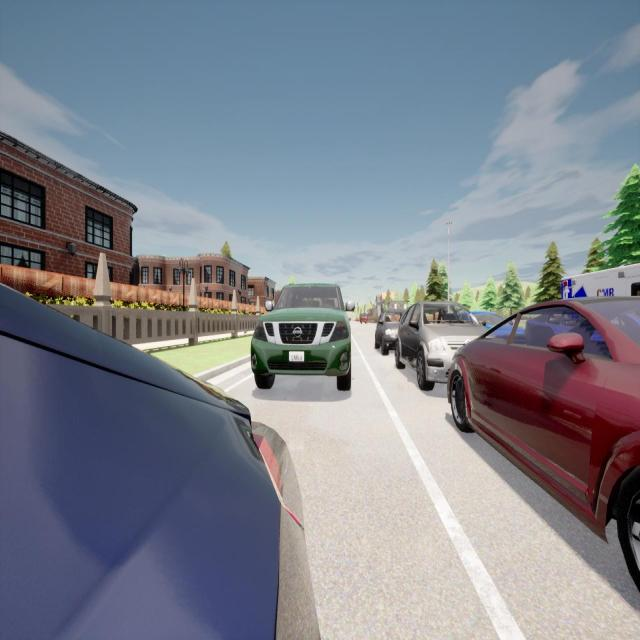Vehicle: (1, 283, 322, 640), (448, 298, 640, 593), (250, 283, 354, 393), (395, 303, 497, 392), (558, 262, 640, 298), (457, 311, 525, 340), (374, 309, 408, 356), (359, 312, 368, 324)
